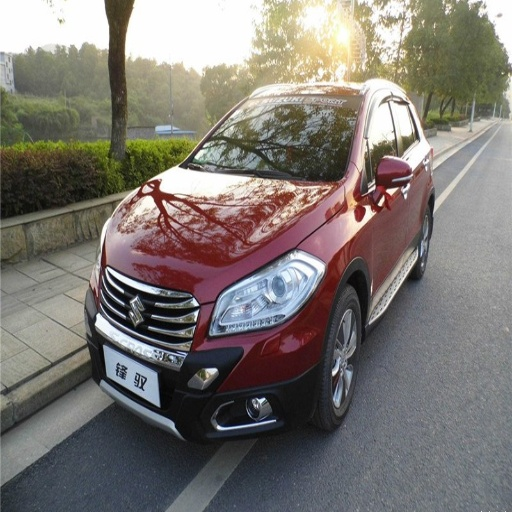front_bumper: (93, 268, 327, 440)
front_glass: (181, 96, 360, 180)
front_left_door: (364, 87, 406, 310)
